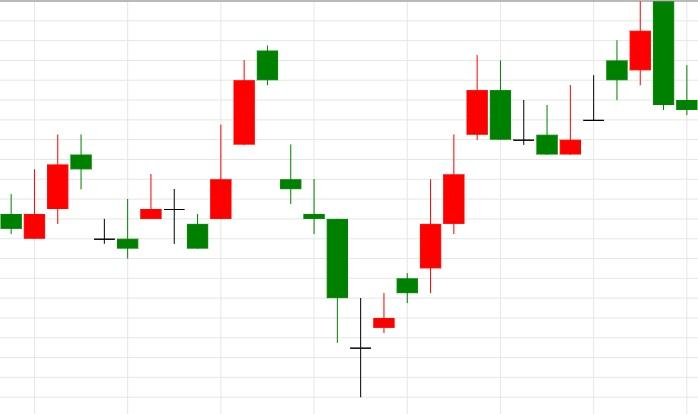bearish_engulfing_fall: (536, 0, 675, 155)
inverse_hammer_rise: (466, 54, 582, 156)
